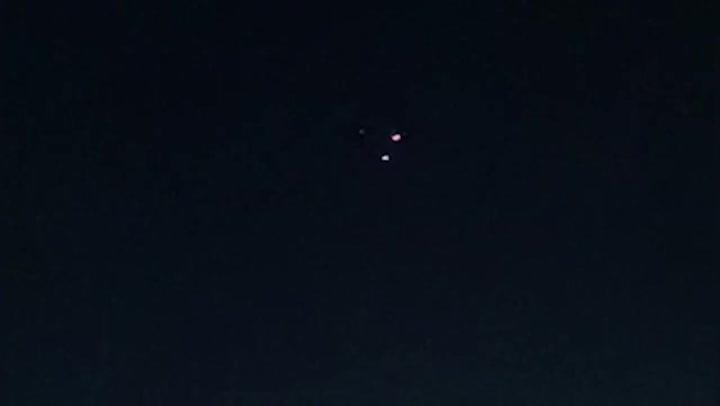Plane: (371, 119, 417, 176)
